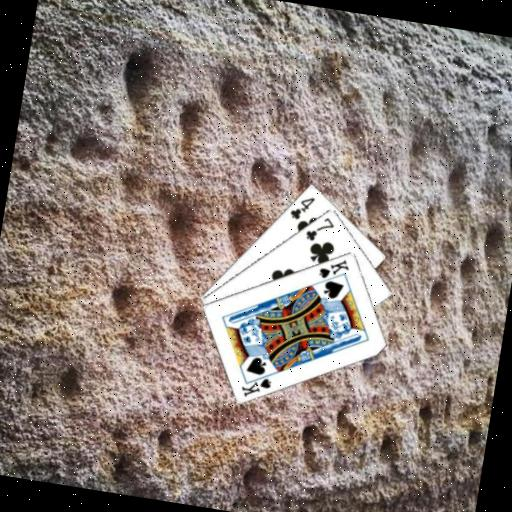4C: (286, 191, 317, 223)
7C: (301, 211, 337, 246)
KS: (237, 366, 274, 402), (315, 252, 352, 283)
